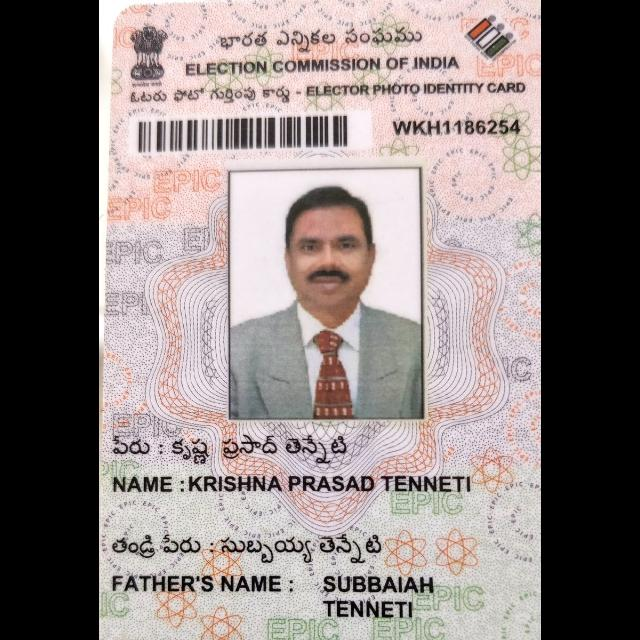voter_id: (99, 0, 541, 640)
